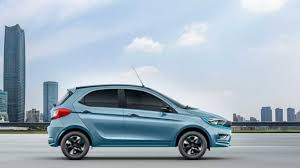Tiago: (42, 83, 235, 162)
